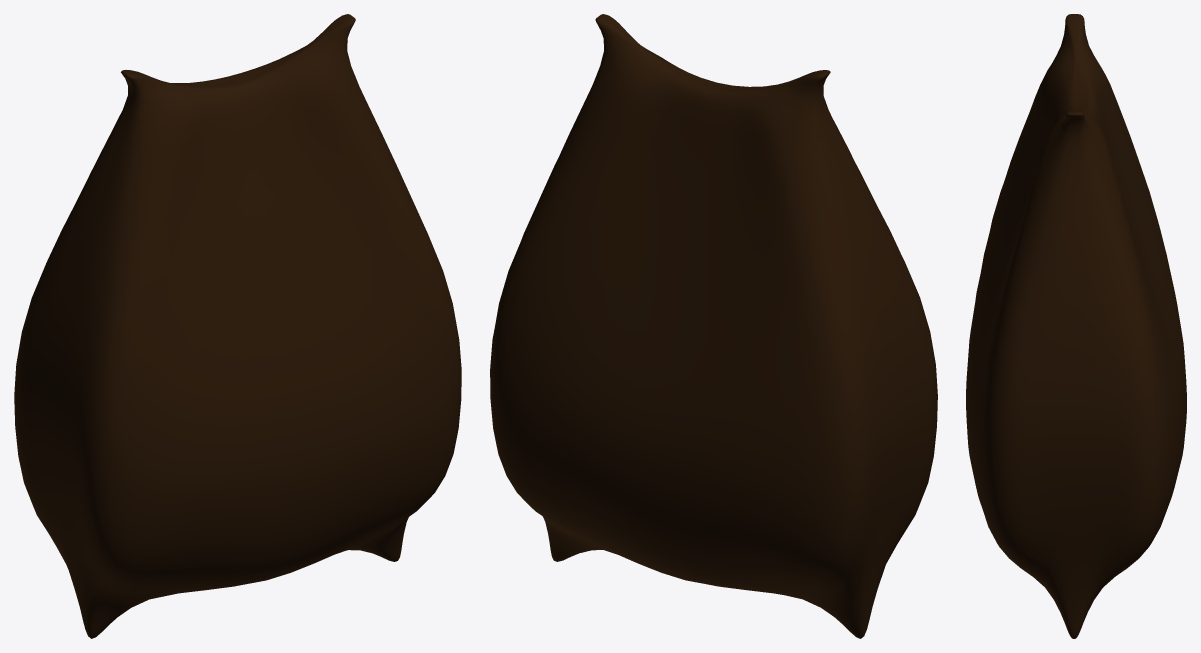
File: Flour_Sack_Final.fbx
3 renders of one model, left to right at view 1: azimuth 30°, elevation 25°; view 2: azimuth 150°, elevation 25°; view 3: azimuth 270°, elevation 25°, orthographic. The views are drawn at different scales.
Parts seen in each view (by area): view 1: Flour_Sack; view 2: Flour_Sack; view 3: Flour_Sack.
Part boxes in pixels (x1,y1,x2,y2): Flour_Sack: [14, 14, 461, 638]; Flour_Sack: [490, 14, 937, 638]; Flour_Sack: [966, 14, 1186, 638].
Bounding box in the file's own units: 3.81 × 5.46 × 2.15.
